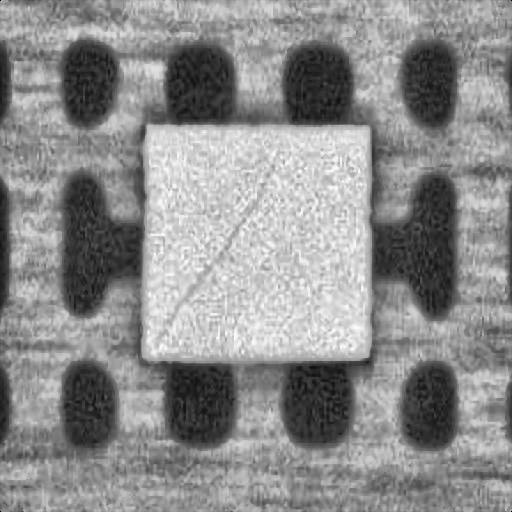DIE_CRACK: (152, 143, 280, 342)
